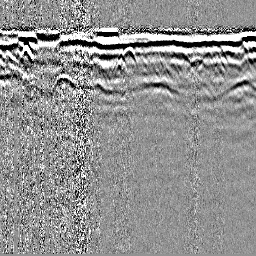cavity: (119, 44, 138, 68)
